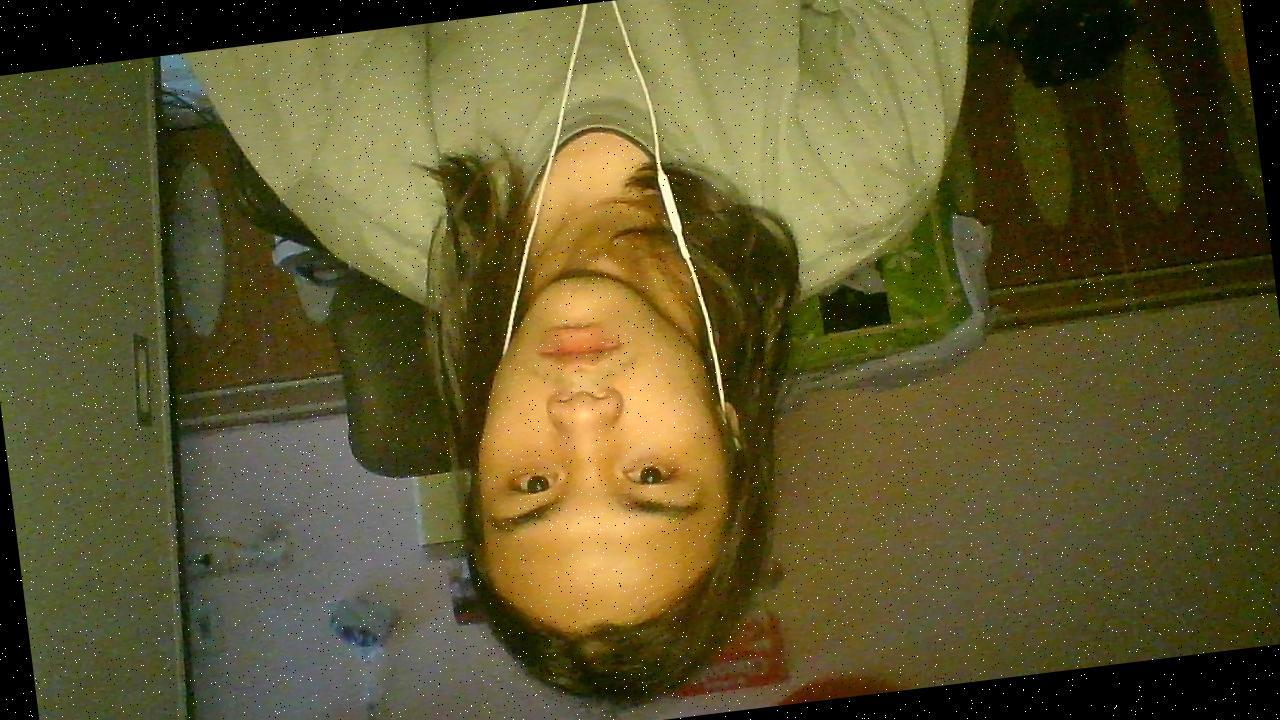Awake: (477, 286, 758, 684)
